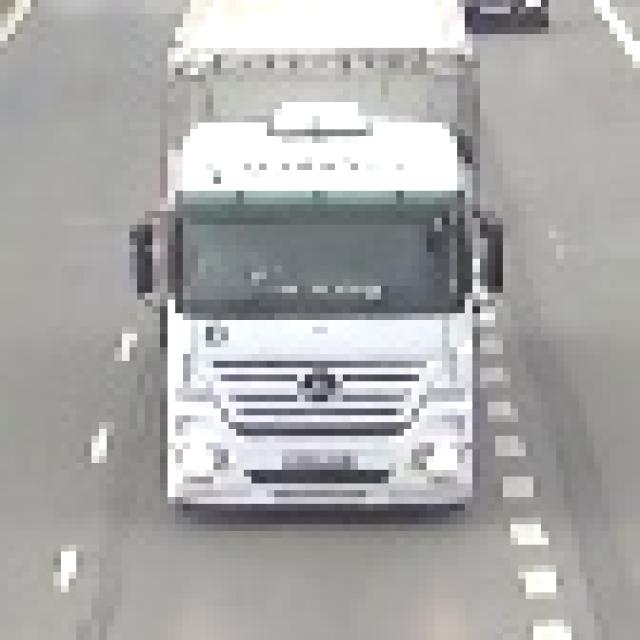TRUCK: (122, 0, 503, 517)
